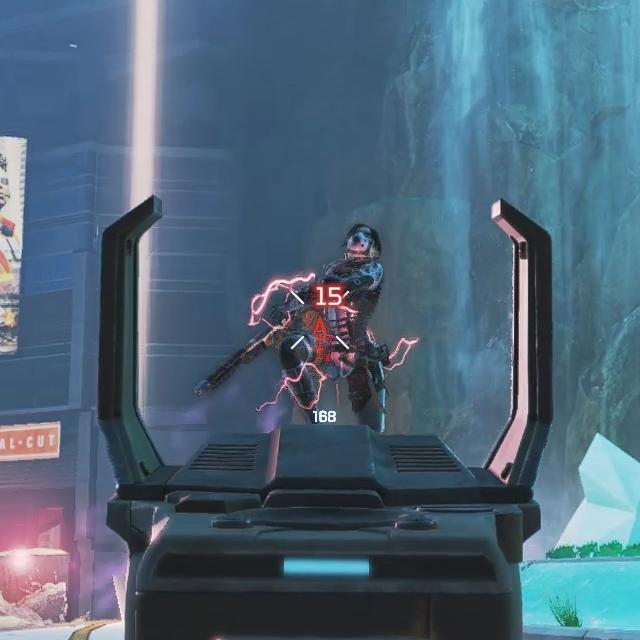avatar: (290, 220, 386, 429)
